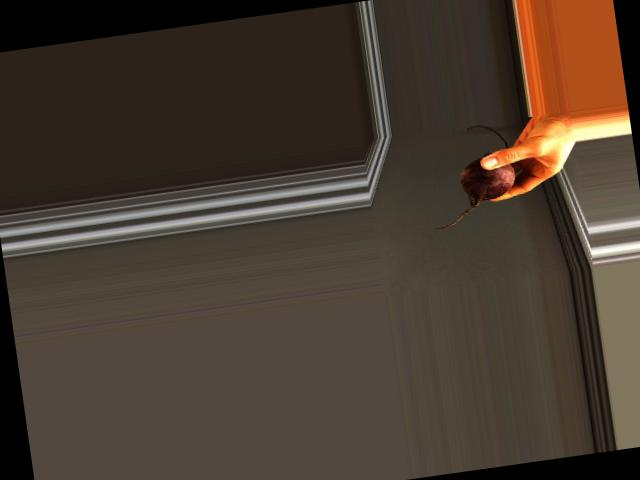beet: (419, 120, 520, 229)
